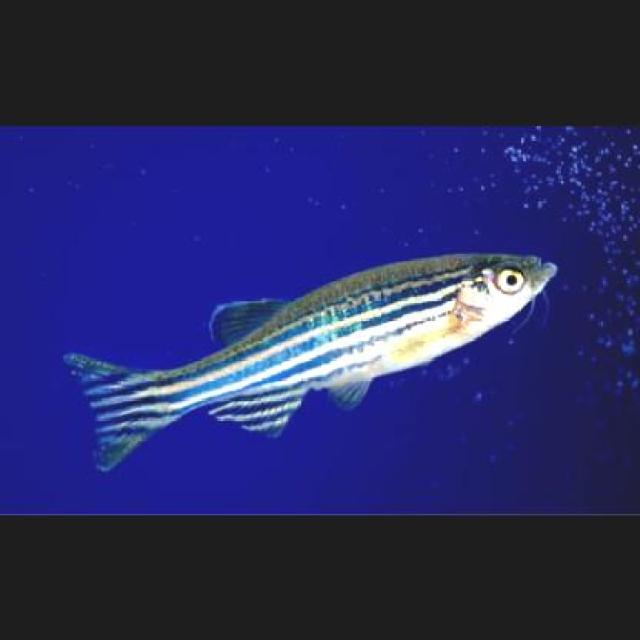ZebraFish: (64, 252, 554, 472)
